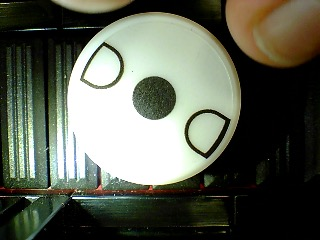BOHOMIPO2: (66, 11, 242, 186)
